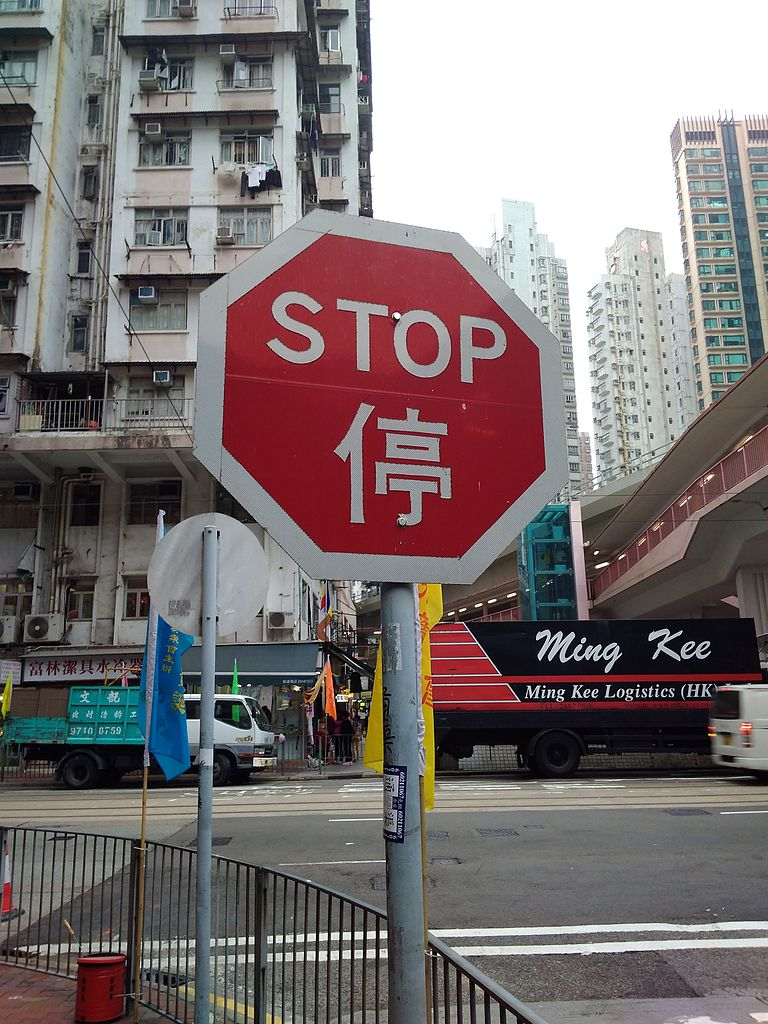Stop: (196, 208, 562, 594)
